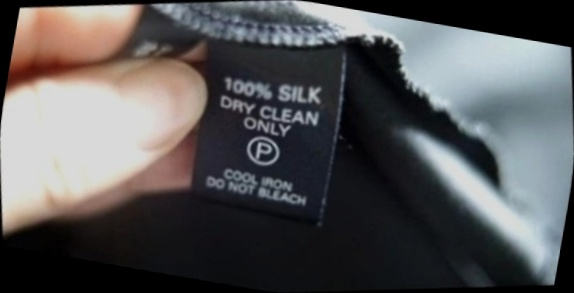dry_clean_any_solvent_except_trichloroethylene: (238, 124, 291, 176)
